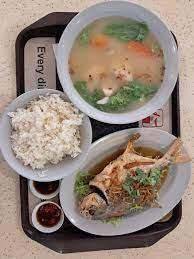Braised Crucian Carp: (54, 1, 178, 124), (58, 127, 190, 236), (0, 88, 93, 181)
